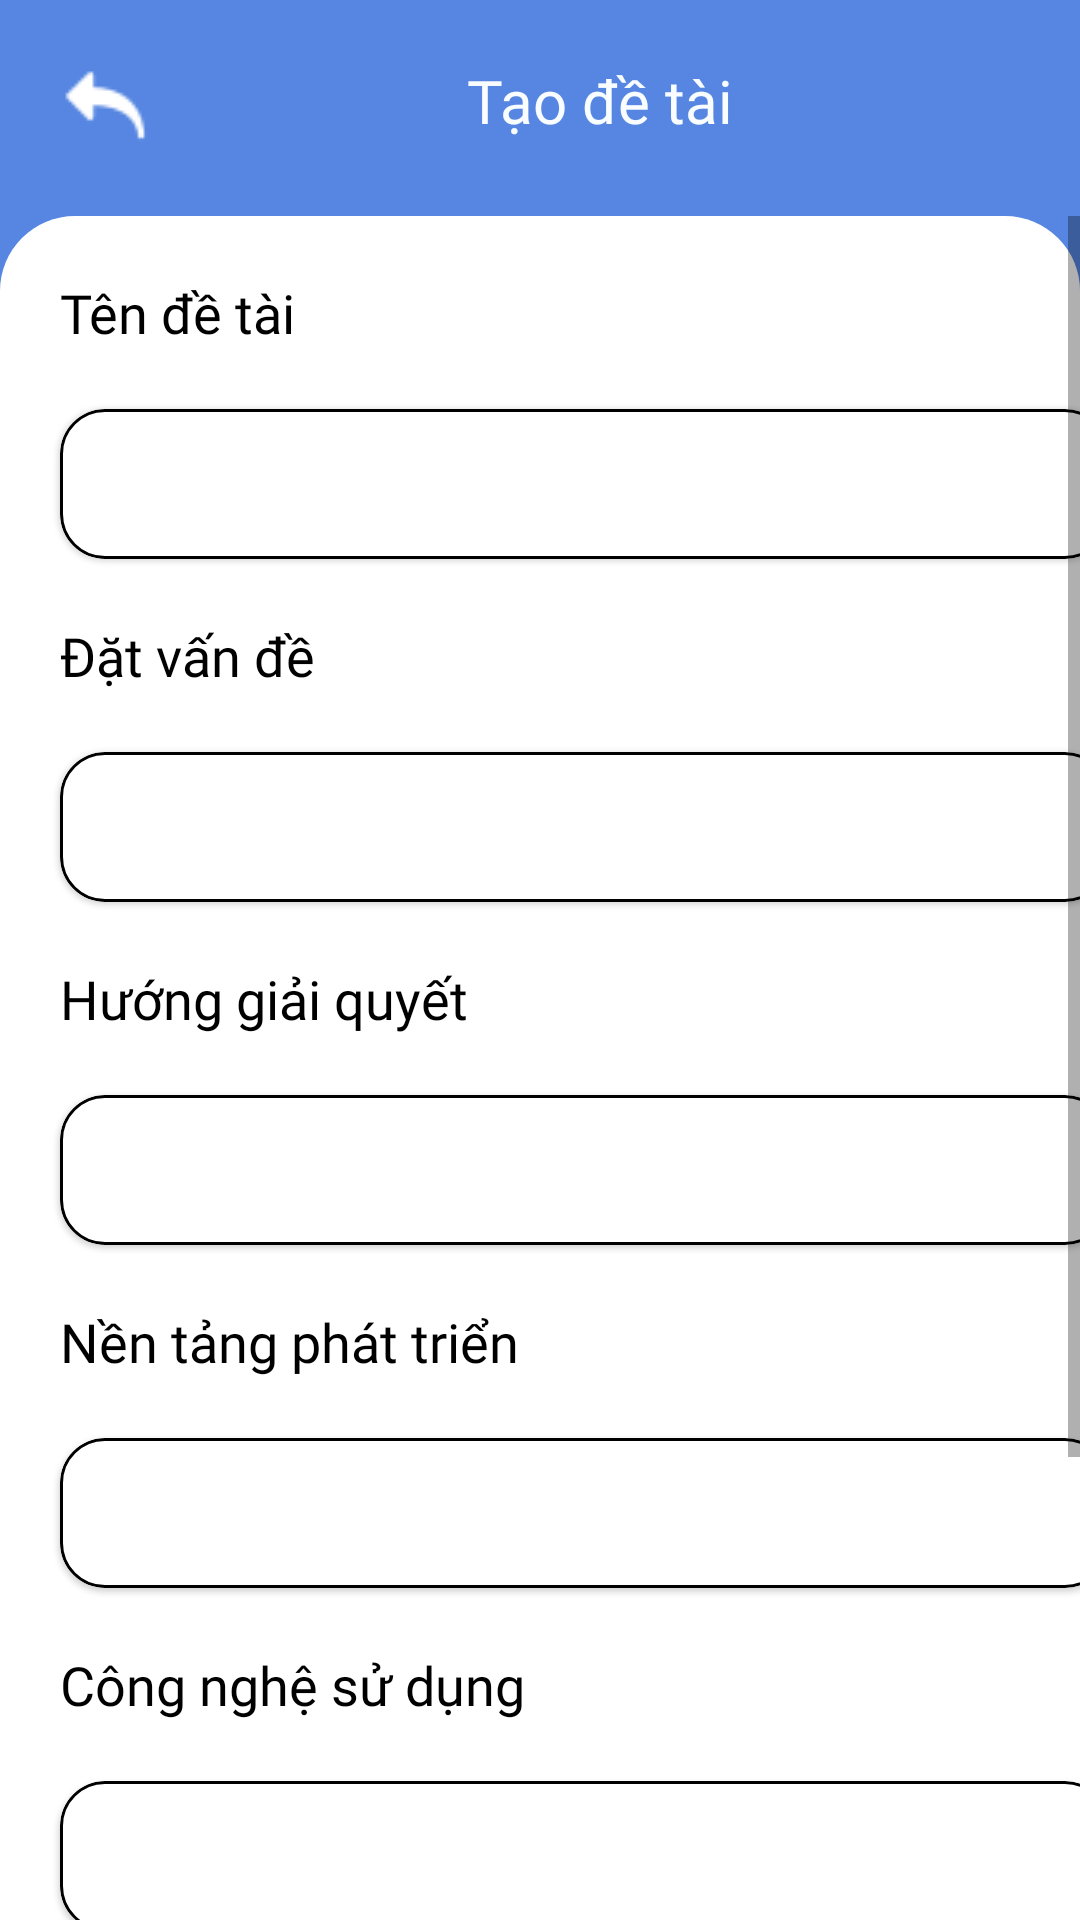

Where icons sit on this 1080w x 1920h app screen, as (x1, y1, x2, y2):
backarrow: (65, 71, 145, 139)
